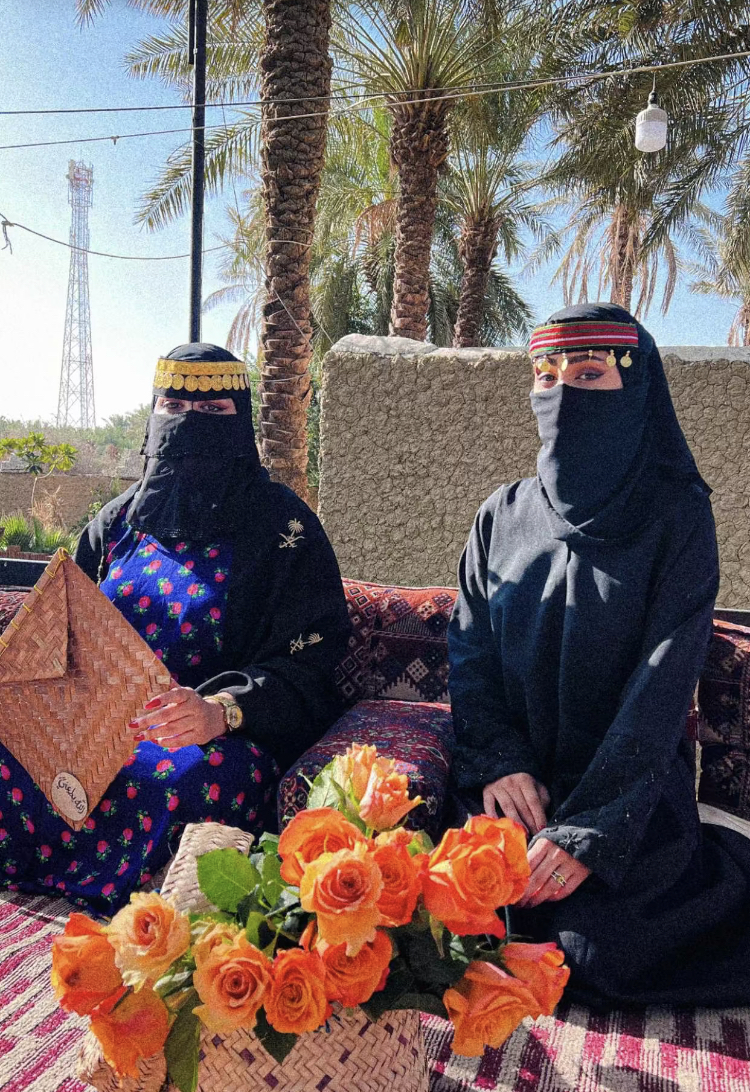Saudi_Founding_Day: (429, 297, 749, 1014), (1, 337, 356, 912)
